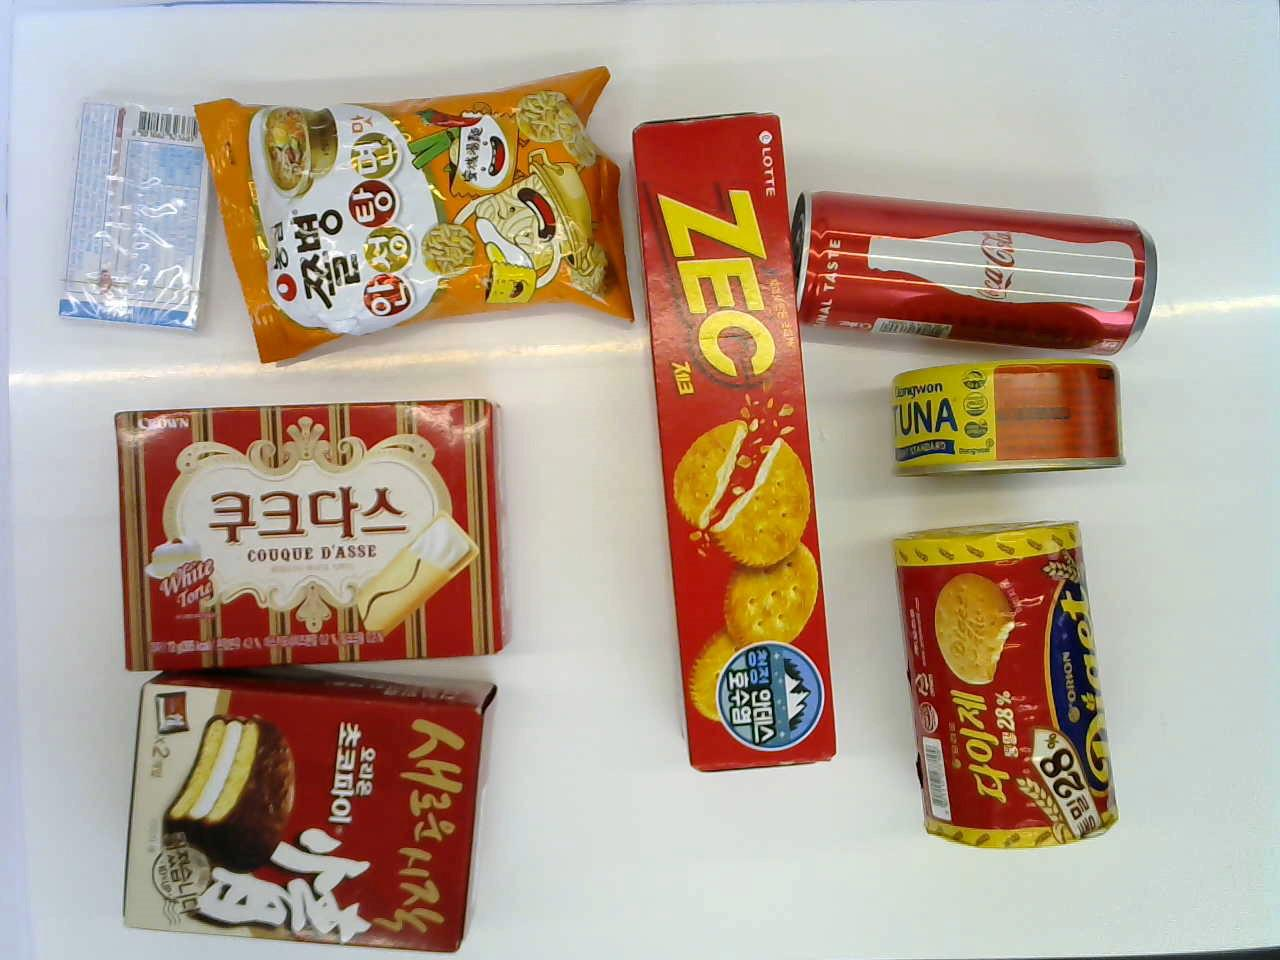ID_gum: (44, 79, 210, 338)
chocopie: (113, 667, 499, 952)
coke: (788, 183, 1162, 349)
couque_white: (101, 402, 523, 668)
diget_ori: (875, 515, 1122, 870)
jjolbyung_noodle: (197, 76, 638, 343)
tuna: (881, 354, 1137, 493)
zec: (633, 91, 815, 775)
